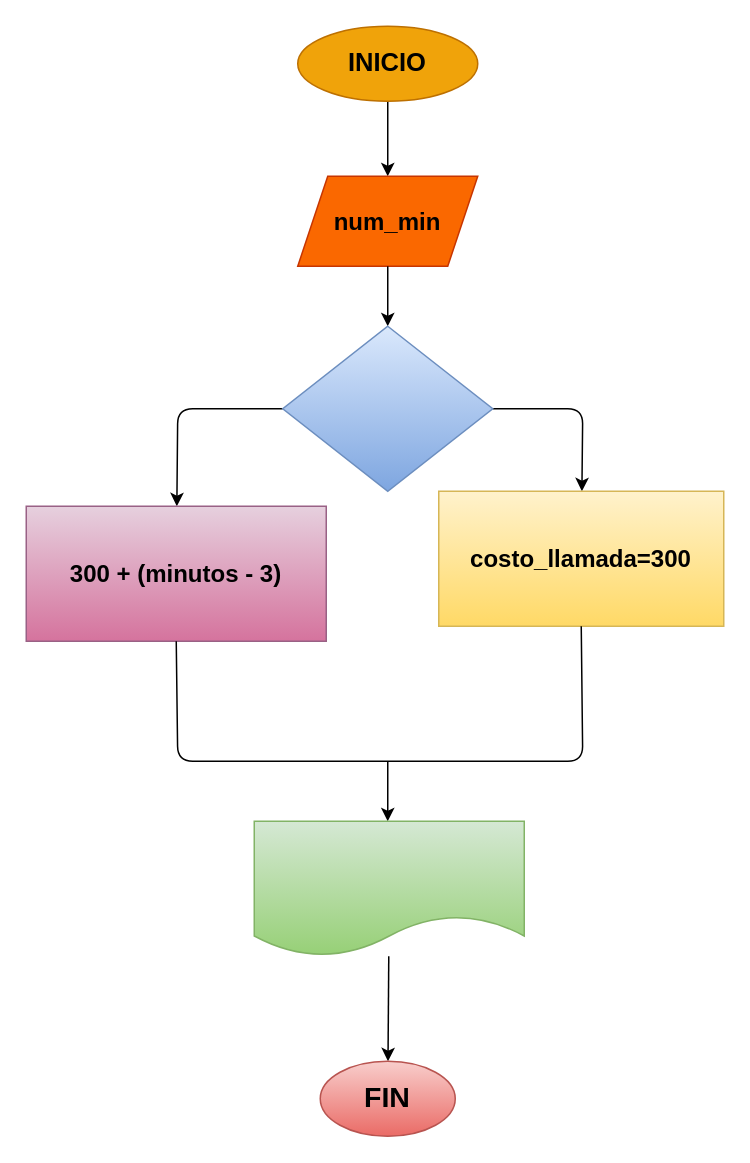
This 750x1163 diagram has some shape labels left out. Here are the shapes that lost their labels. From the top down, the box of each, then its label:
(281, 325, 493, 491): num_min<=3
(253, 820, 524, 956): costo_llamada
